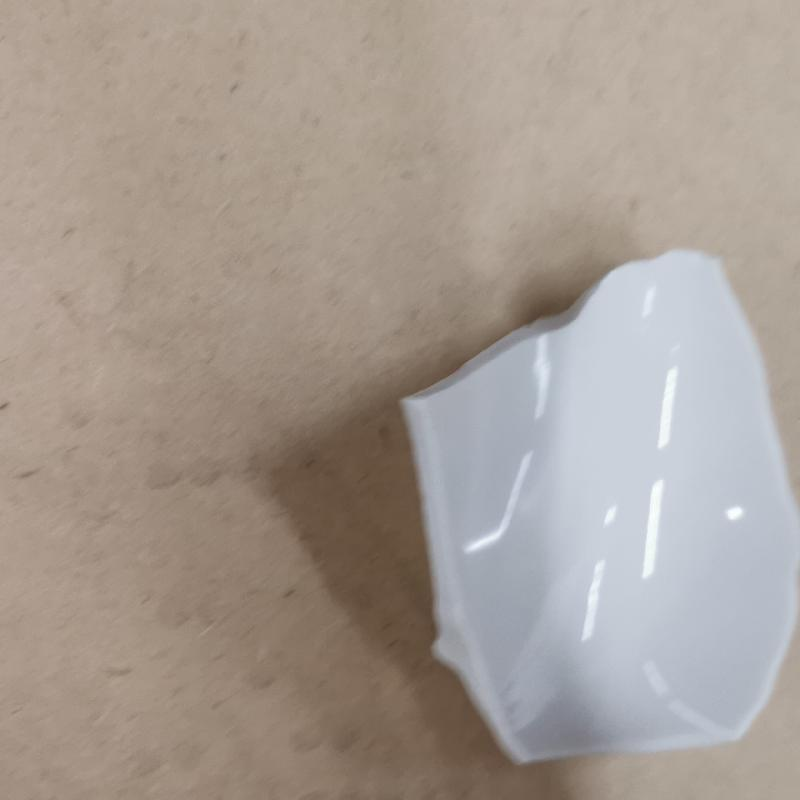ceram: (398, 248, 800, 766)
